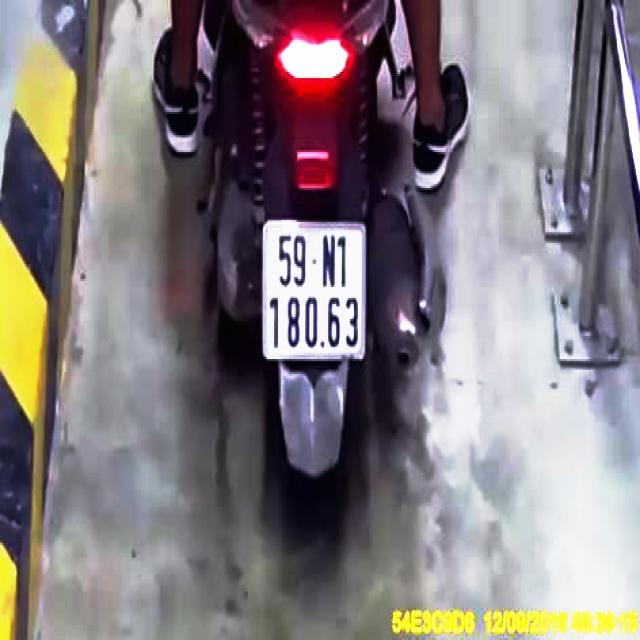license_plate: (265, 220, 365, 359)
